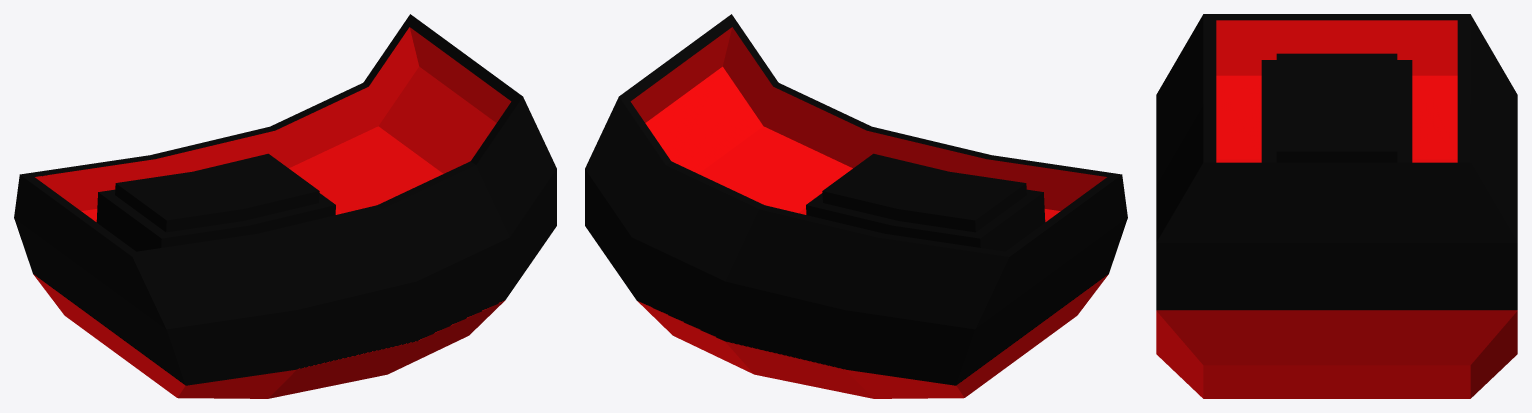
3 views of the same model, side by side, from view 1: azimuth 30°, elevation 25°; view 2: azimuth 150°, elevation 25°; view 3: azimuth 270°, elevation 25° (orthographic). The views are drawn at different scales.
Visible parts, largest first — view 1: boat1; view 2: boat1; view 3: boat1.
Part boxes in pixels (x1,y1,x2,y2): boat1: (14,14,556,398); boat1: (585,14,1127,398); boat1: (1156,14,1517,398).
Size of the model in its own units: 507 by 293 by 331.
1 material, 1 textured.
